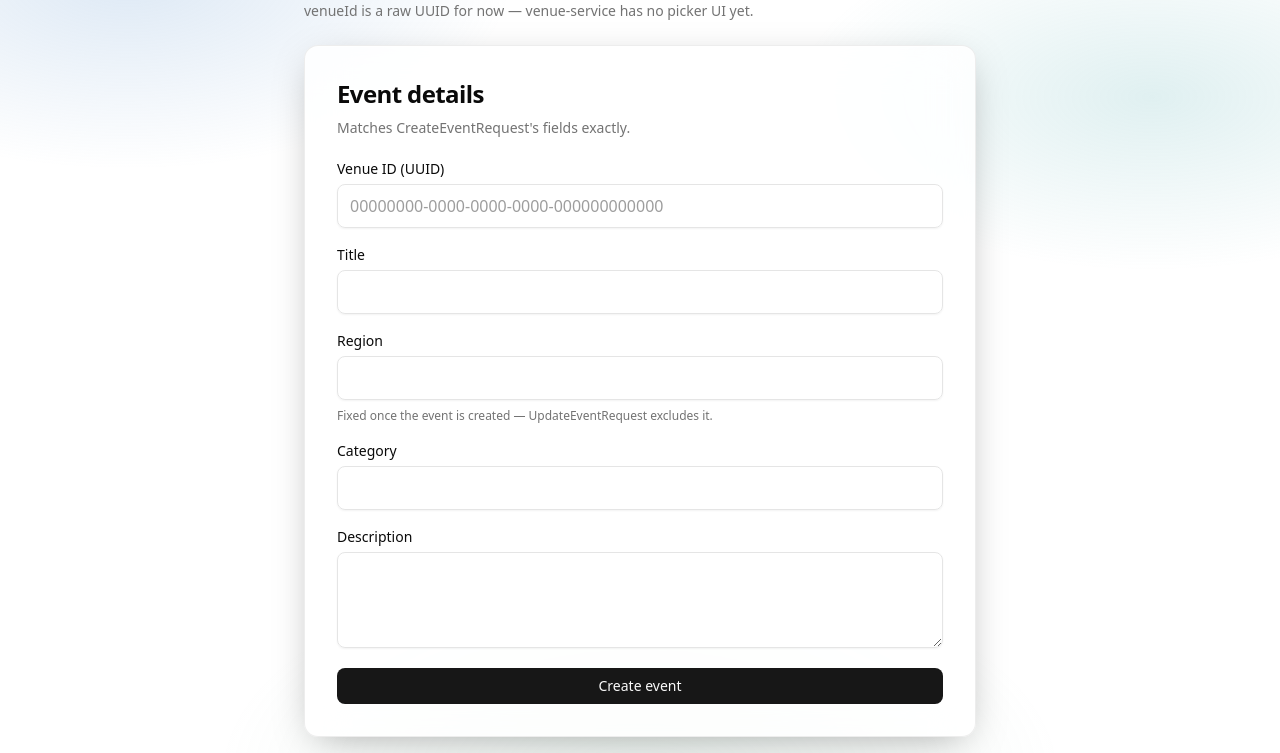
Test: CreateEventPage validation › shows client-side errors for required fields on submit without touching the network
The width and height of the screenshot is (1280, 753).
(page scrolled)
Click the button "Create event": [640, 686] box [337,668,943,704]
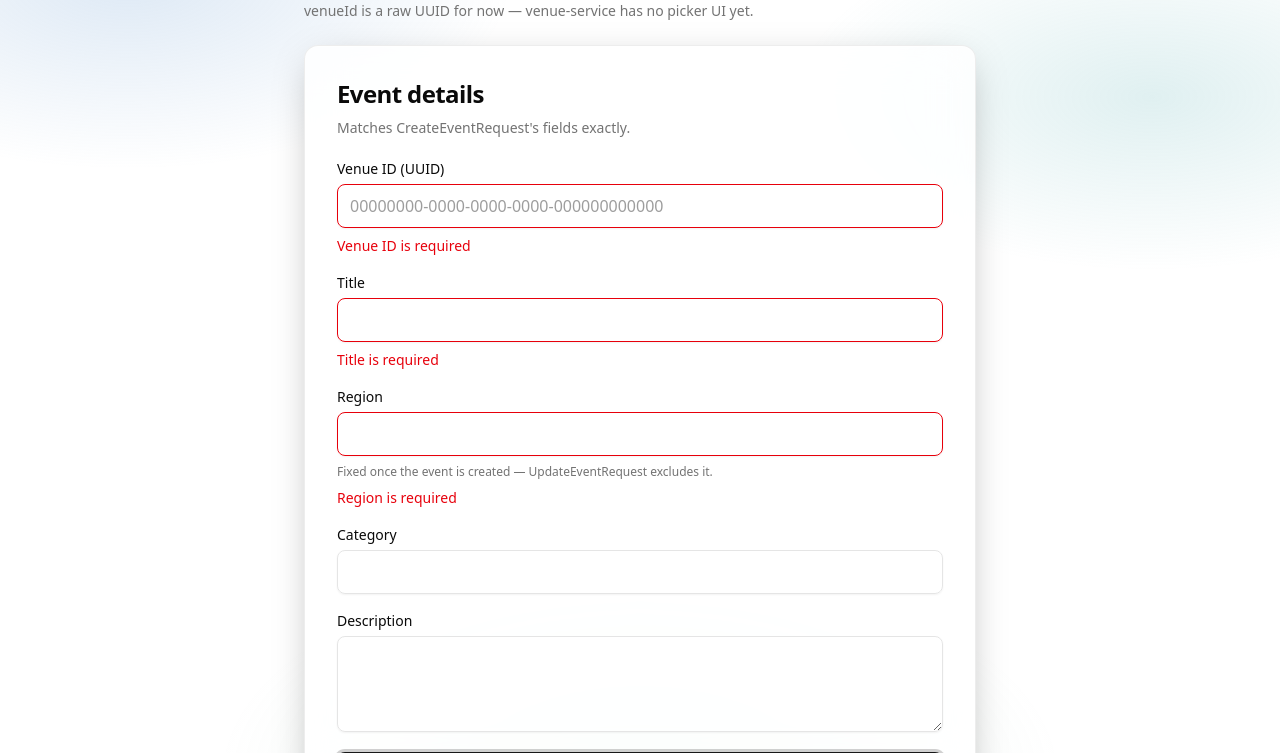
Now the text "Venue ID is required" is shown, box [337,236,471,255]
Now the text "Title is required" is shown, box [337,350,439,369]
Now the text "Region is required" is shown, box [337,488,457,507]
